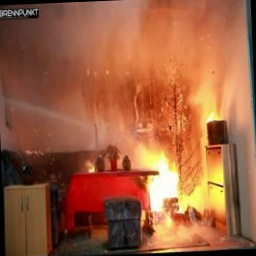fire: (126, 132, 196, 219)
smoke: (49, 2, 171, 117)
